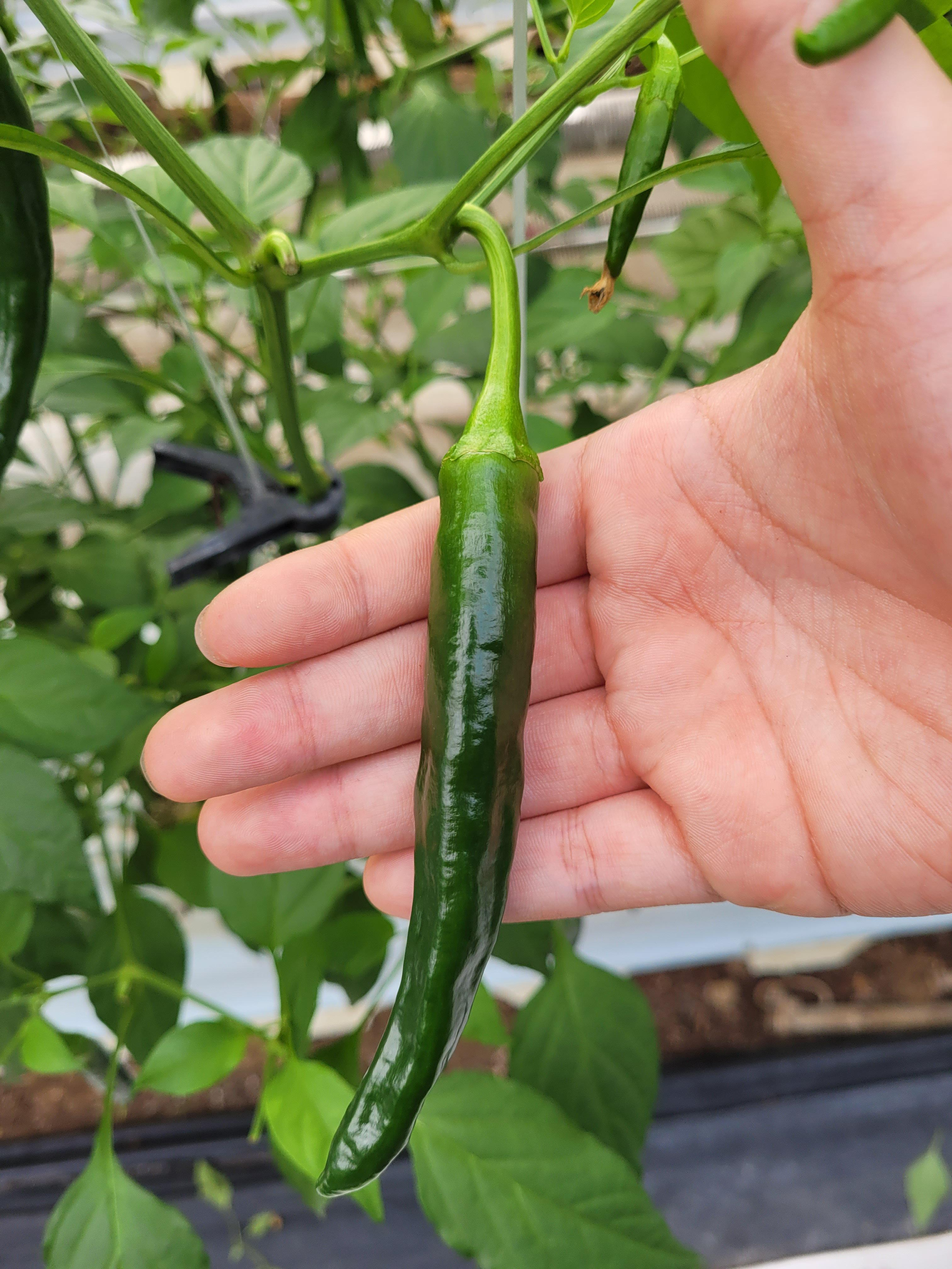Buah Cabai Sehat: (311, 398, 546, 1200), (602, 71, 697, 290)
